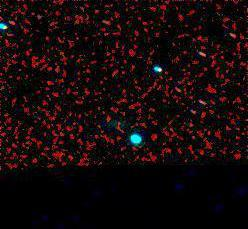star: (146, 56, 176, 86)
